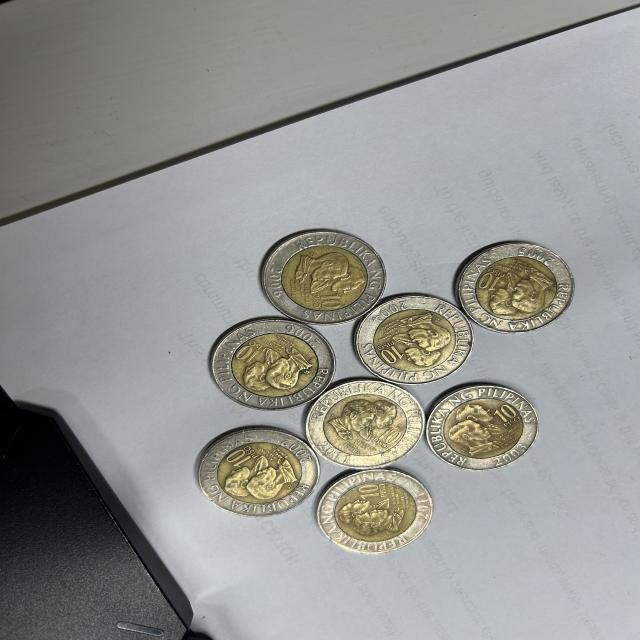10_Old_Front: (378, 427, 406, 449), (225, 447, 253, 468), (494, 403, 521, 424), (358, 482, 383, 504), (477, 273, 500, 293), (319, 294, 346, 311), (382, 344, 404, 364), (235, 345, 259, 363)
